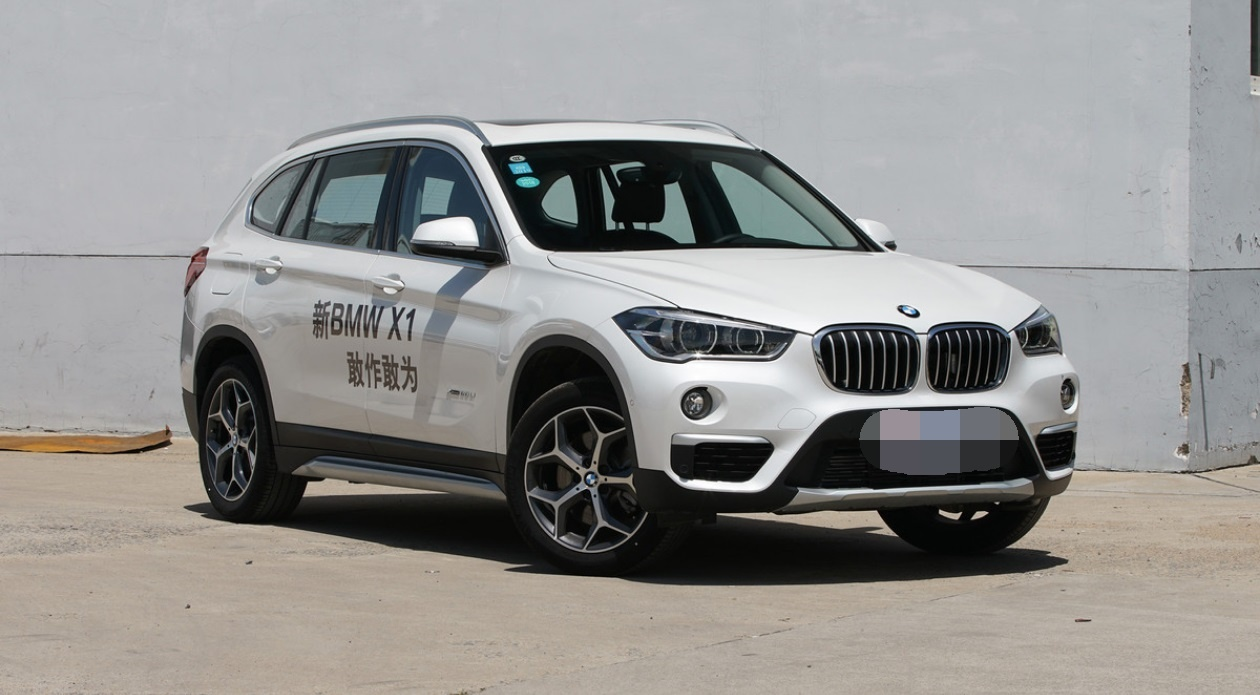SUV: (172, 111, 1088, 578)
